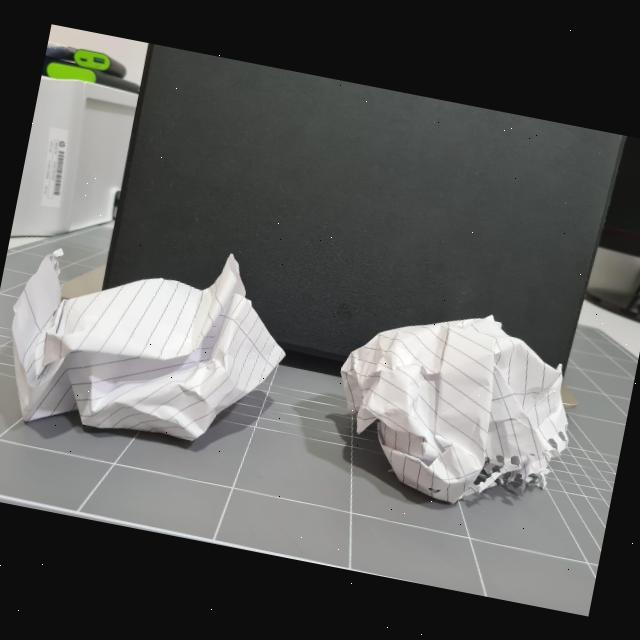trash: (309, 276, 599, 528), (0, 218, 294, 463)
